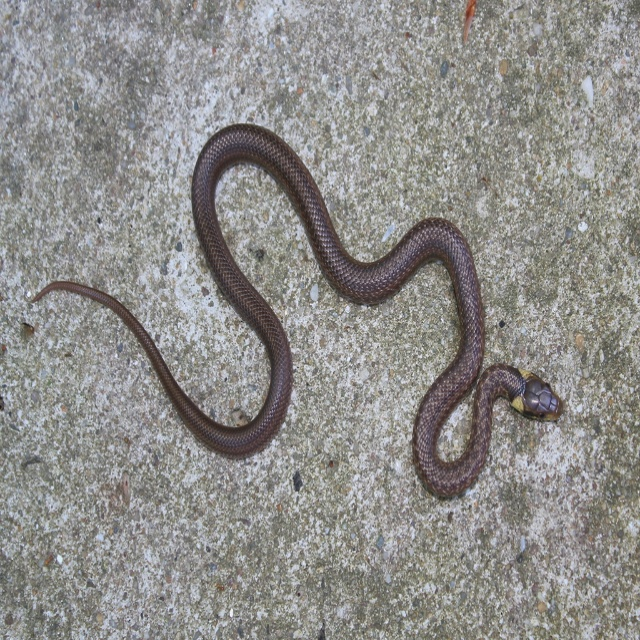Snake: (34, 125, 567, 498)
